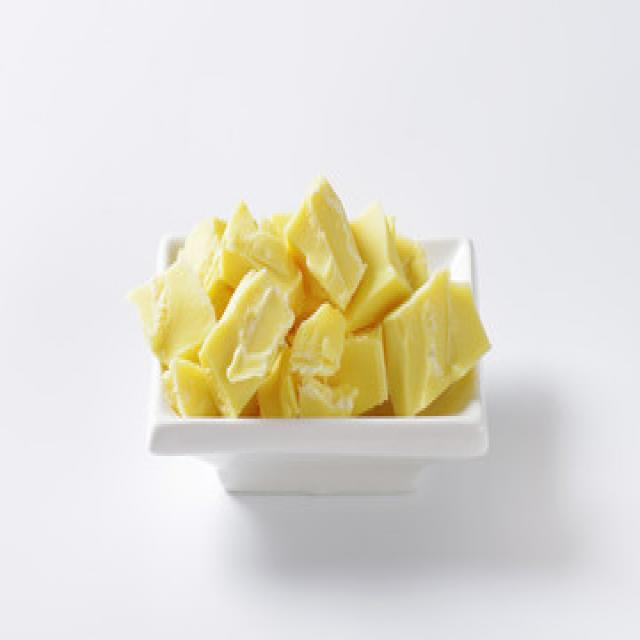Chocolate: (148, 179, 490, 430)
